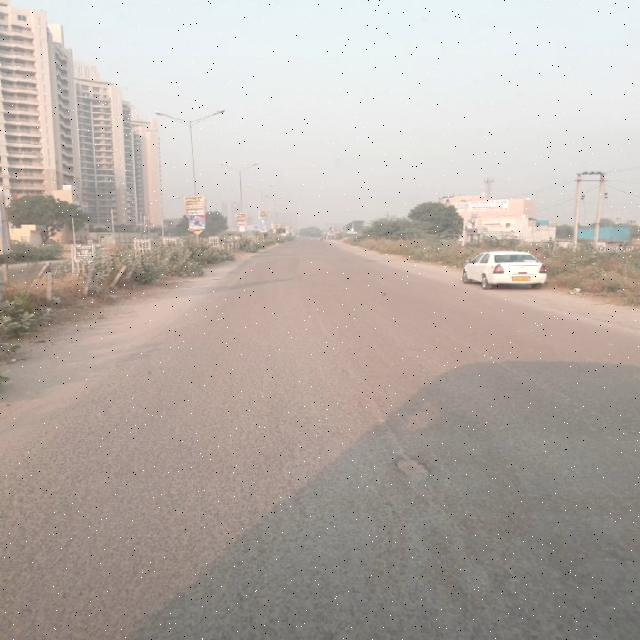D40: (390, 449, 435, 483)
